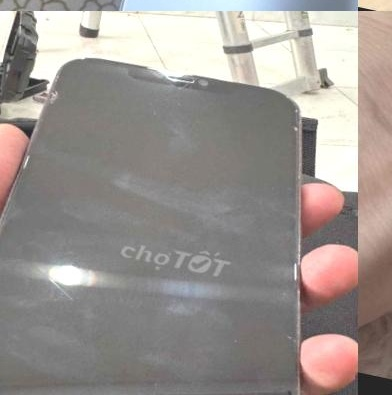physical_damage: (0, 231, 327, 395), (28, 67, 86, 123), (142, 60, 205, 101)
